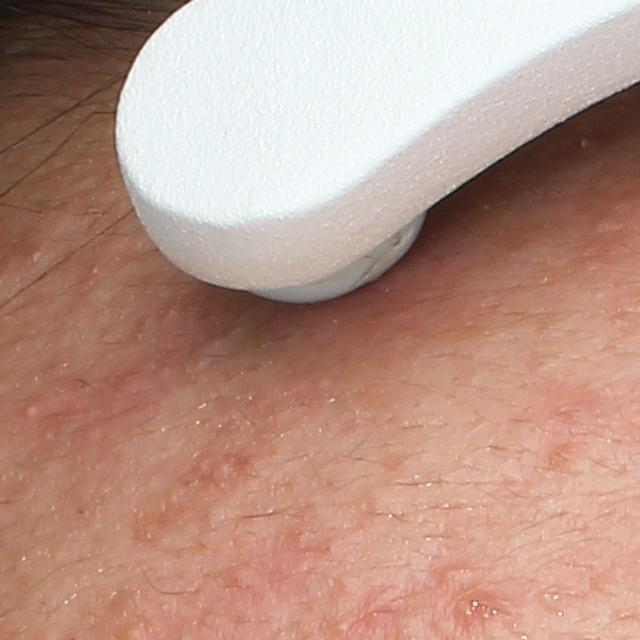comedo: (19, 396, 46, 423)
